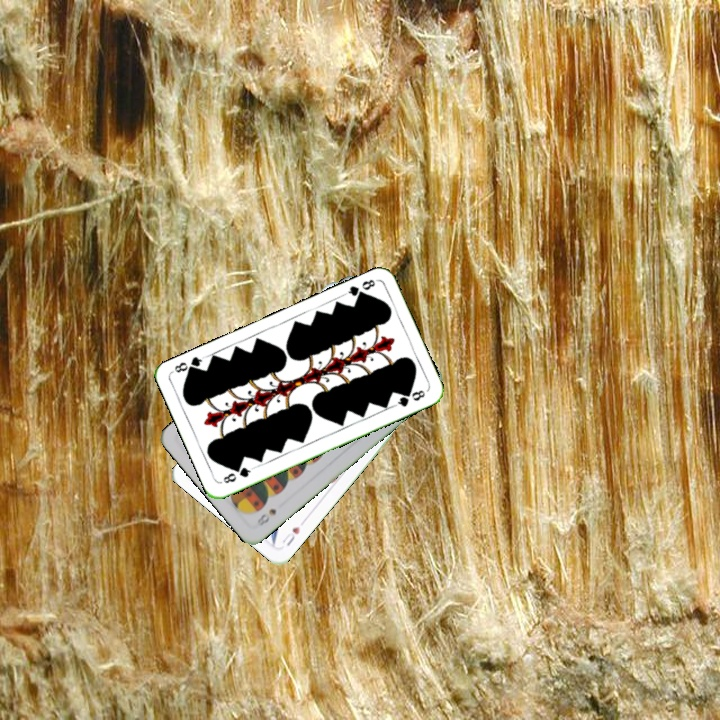G8: (340, 275, 379, 302), (219, 463, 256, 486)
HU: (278, 516, 308, 549)
S8: (253, 504, 279, 529)
